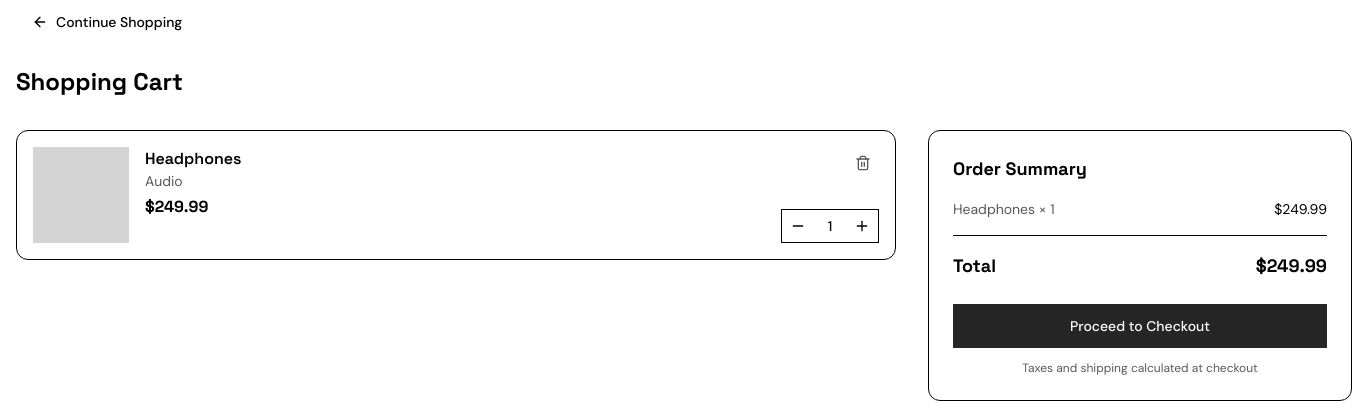
Test case: CartPage › can decrease quantity to remove item
The width and height of the screenshot is (1369, 418).
Expected: the heading "Headphones" is shown, [145, 148, 242, 169]
Click the 3rd button at {"x": 798, "y": 226}, box [782, 210, 814, 242]
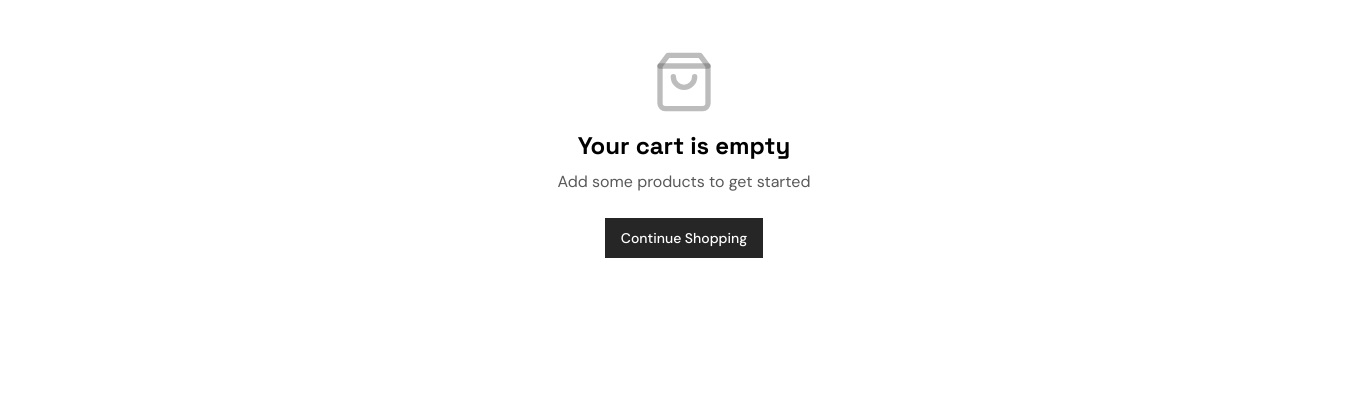
Now the heading "Your cart is empty" is shown, box [578, 130, 790, 161]
